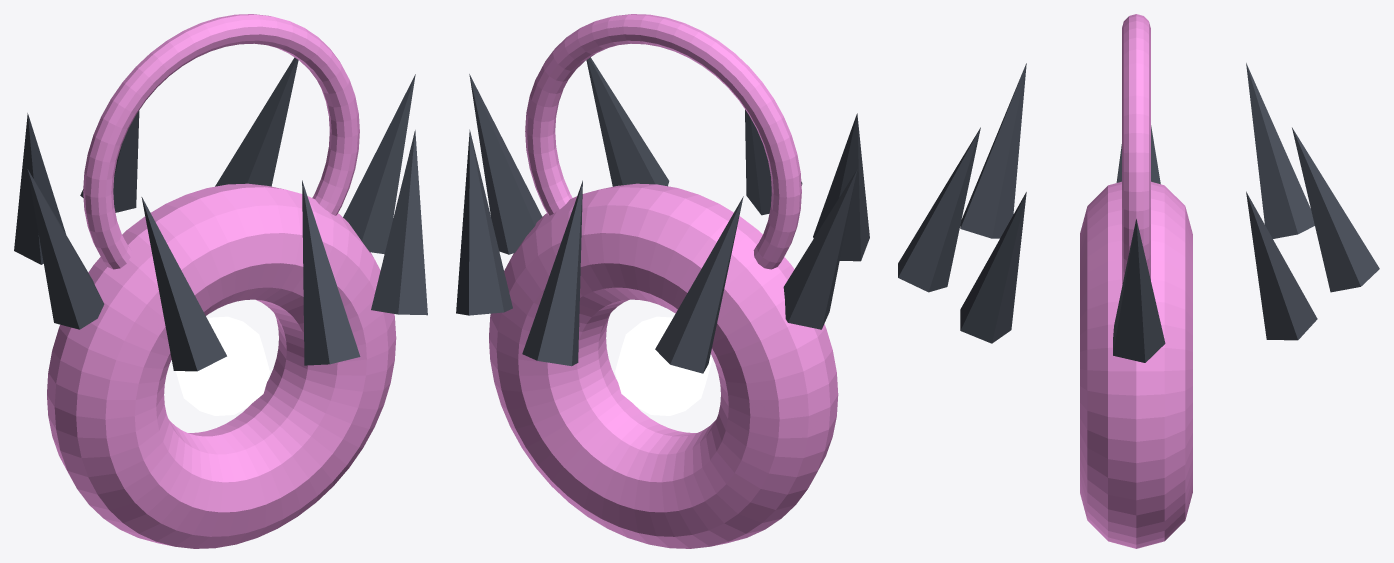
Rendered from SM_Boss_Sirenkollektiv.fbx.
The picture shows the model from 3 angles, left to right: view 1: azimuth 30°, elevation 25°; view 2: azimuth 150°, elevation 25°; view 3: azimuth 270°, elevation 25°; orthographic projection. The views are drawn at different scales.
Parts seen in each view (by area): view 1: SM_Boss_Sirenkollektiv; view 2: SM_Boss_Sirenkollektiv; view 3: SM_Boss_Sirenkollektiv.
Part boxes in pixels (x1=…): SM_Boss_Sirenkollektiv: x1=14, y1=14, x2=427, y2=548; SM_Boss_Sirenkollektiv: x1=456, y1=14, x2=869, y2=548; SM_Boss_Sirenkollektiv: x1=898, y1=14, x2=1379, y2=548.
Bounding box in the file's own units: 3.06 × 3.93 × 3.41.
